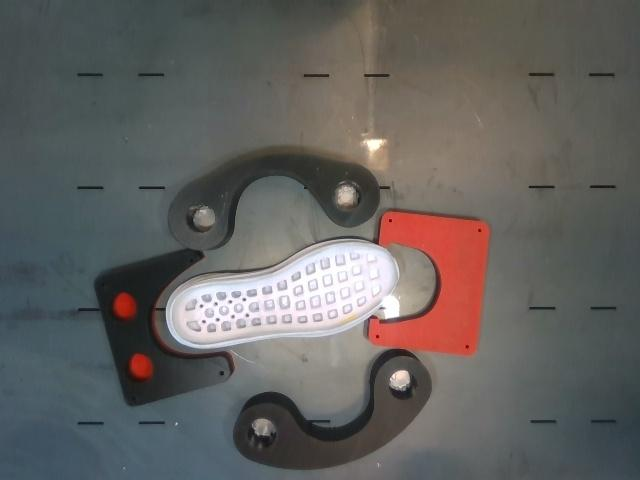shoes: (170, 243, 397, 345)
